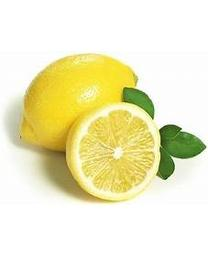lemon: (21, 53, 140, 151), (66, 101, 161, 205)
